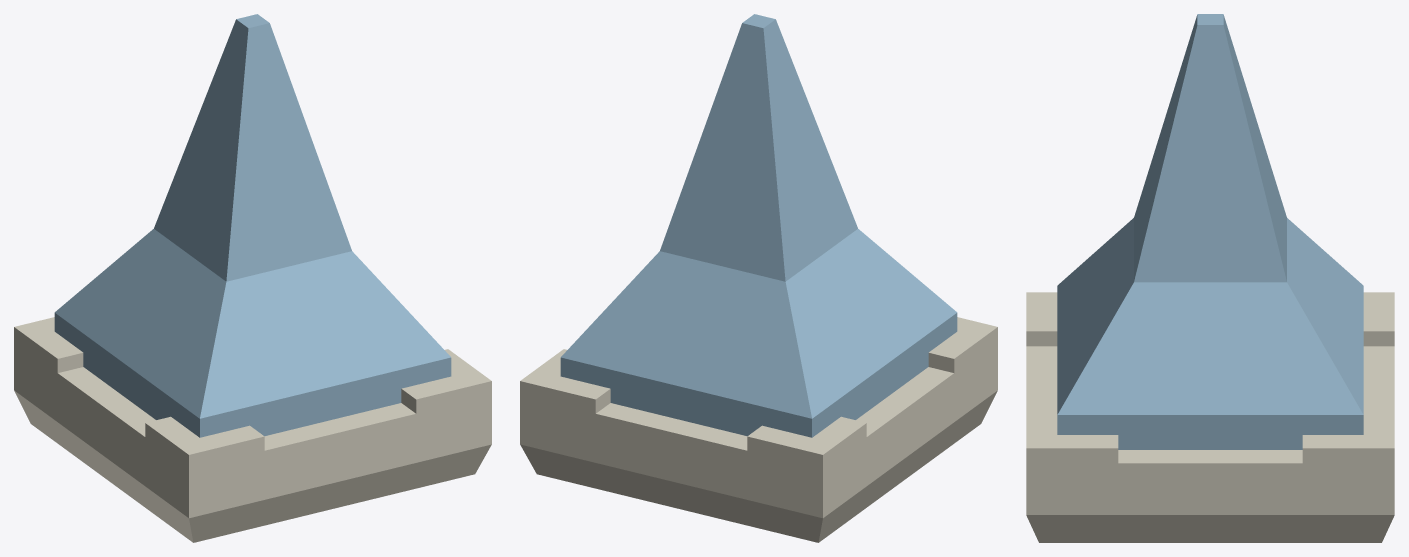
Rendered from towerSquareTopRoofHigh.fbx.
3 views of the same model, side by side, from view 1: azimuth 30°, elevation 25°; view 2: azimuth 150°, elevation 25°; view 3: azimuth 270°, elevation 25° (orthographic). The views are drawn at different scales.
Visible parts, largest first — view 1: towerSquareTopRoofHigh, towerSquareTopRoofHigh_cell.001, towerSquareTopRoofHigh_cell.004, towerSquareTopRoofHigh_cell, towerSquareTopRoofHigh_cell.007; view 2: towerSquareTopRoofHigh, towerSquareTopRoofHigh_cell.004, towerSquareTopRoofHigh_cell.002, towerSquareTopRoofHigh_cell, towerSquareTopRoofHigh_cell.005, towerSquareTopRoofHigh_cell.007, towerSquareTopRoofHigh_cell.006; view 3: towerSquareTopRoofHigh, towerSquareTopRoofHigh_cell.006, towerSquareTopRoofHigh_cell.001, towerSquareTopRoofHigh_cell.002, towerSquareTopRoofHigh_cell.003, towerSquareTopRoofHigh_cell, towerSquareTopRoofHigh_cell.005, towerSquareTopRoofHigh_cell.007.
Boxes of the visible parts, box(x1,y1,x2,y2) form: towerSquareTopRoofHigh: box(14, 14, 491, 541); towerSquareTopRoofHigh_cell.001: box(226, 231, 491, 514); towerSquareTopRoofHigh_cell.004: box(31, 112, 240, 493); towerSquareTopRoofHigh_cell: box(120, 330, 291, 542); towerSquareTopRoofHigh_cell.007: box(14, 72, 244, 430); towerSquareTopRoofHigh: box(520, 14, 997, 542); towerSquareTopRoofHigh_cell.004: box(801, 85, 934, 517); towerSquareTopRoofHigh_cell.002: box(713, 15, 786, 268); towerSquareTopRoofHigh_cell: box(896, 272, 997, 468); towerSquareTopRoofHigh_cell.005: box(563, 217, 714, 495); towerSquareTopRoofHigh_cell.007: box(781, 56, 848, 451); towerSquareTopRoofHigh_cell.006: box(680, 23, 743, 222); towerSquareTopRoofHigh: box(1026, 15, 1394, 542); towerSquareTopRoofHigh_cell.006: box(1188, 25, 1394, 542); towerSquareTopRoofHigh_cell.001: box(1026, 68, 1195, 466); towerSquareTopRoofHigh_cell.002: box(1197, 14, 1394, 346); towerSquareTopRoofHigh_cell.003: box(1026, 454, 1218, 542); towerSquareTopRoofHigh_cell: box(1026, 292, 1057, 363); towerSquareTopRoofHigh_cell.005: box(1275, 214, 1334, 340); towerSquareTopRoofHigh_cell.007: box(1287, 218, 1393, 321).
Bounding box in the file's own units: 1000 × 1350 × 1000.
